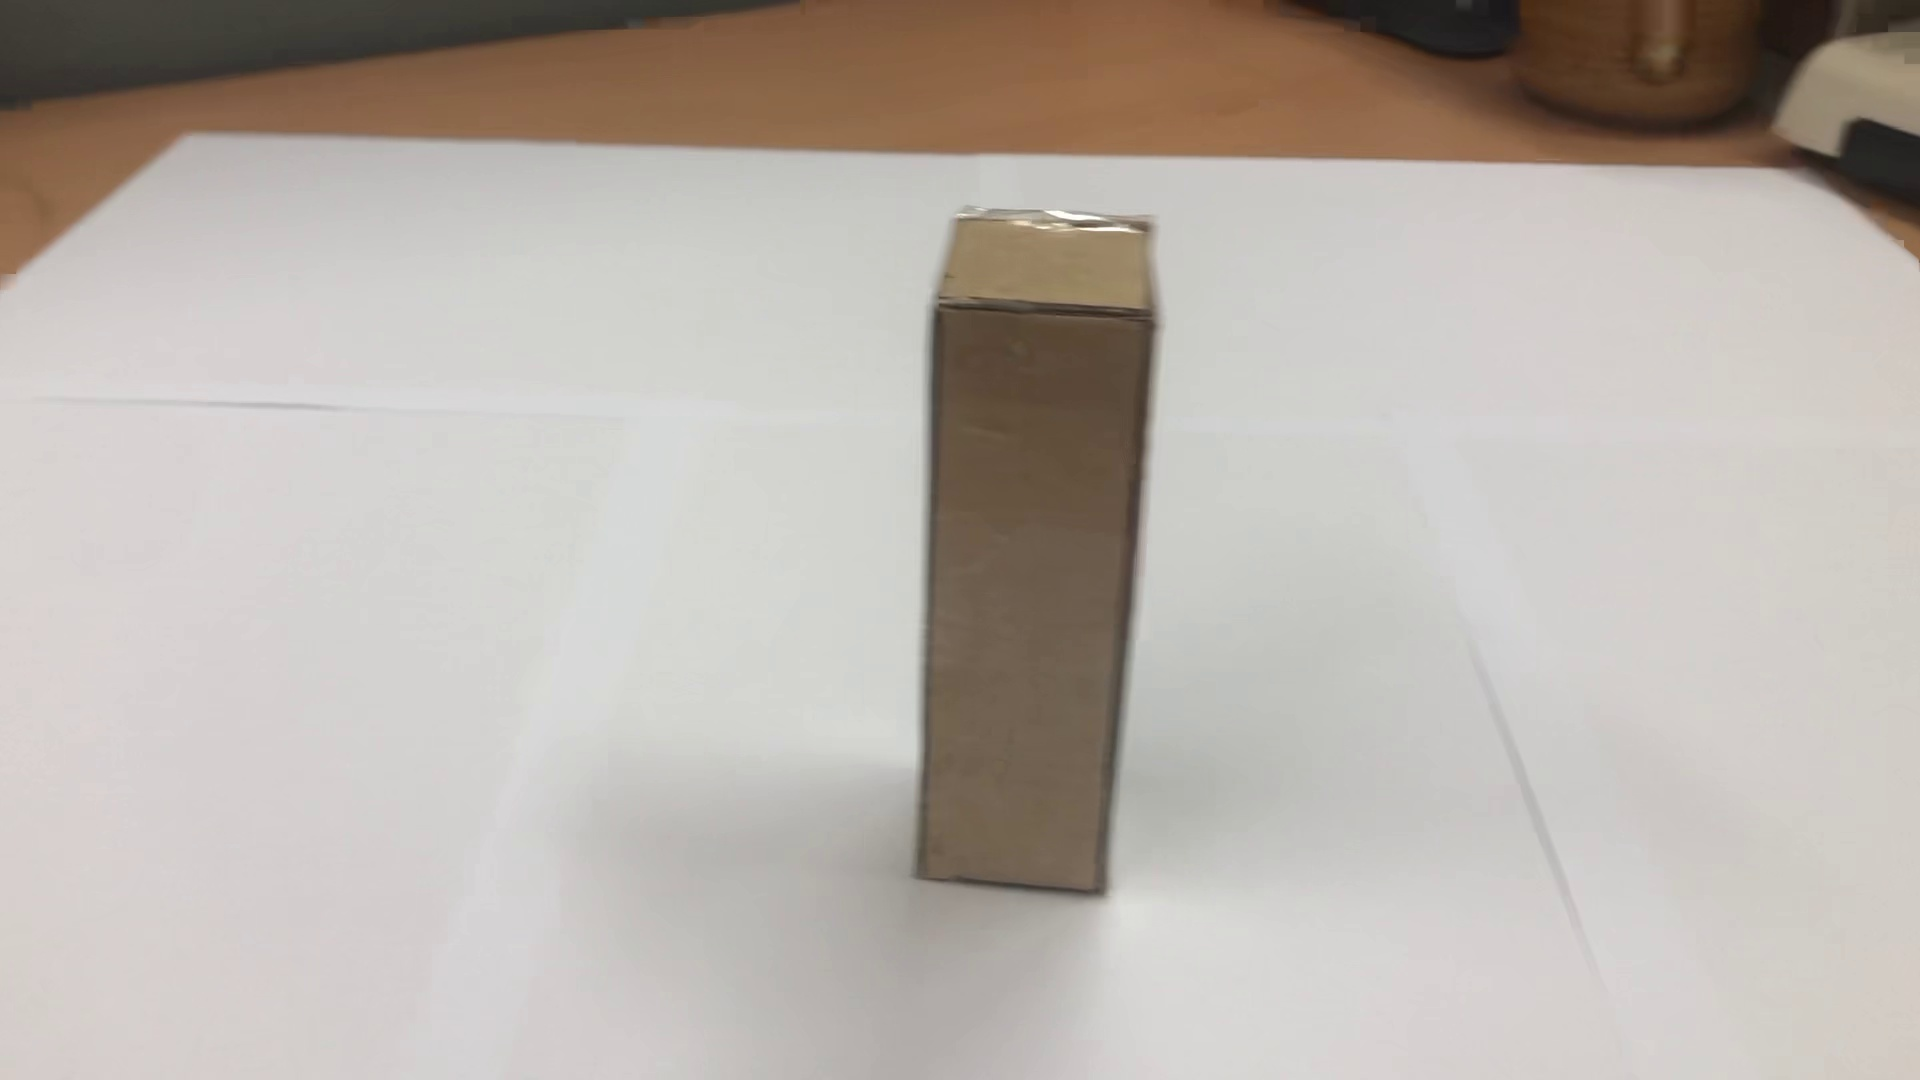box: (901, 198, 1172, 902)
